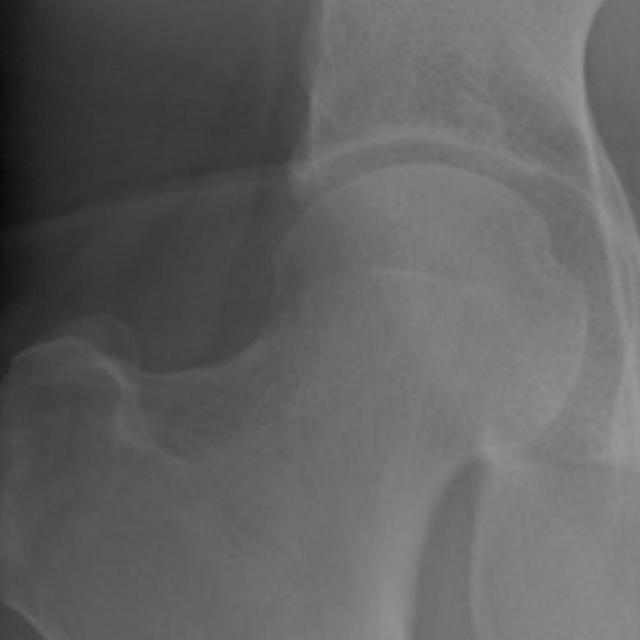Fitted_femural_head: (312, 164, 432, 312)
